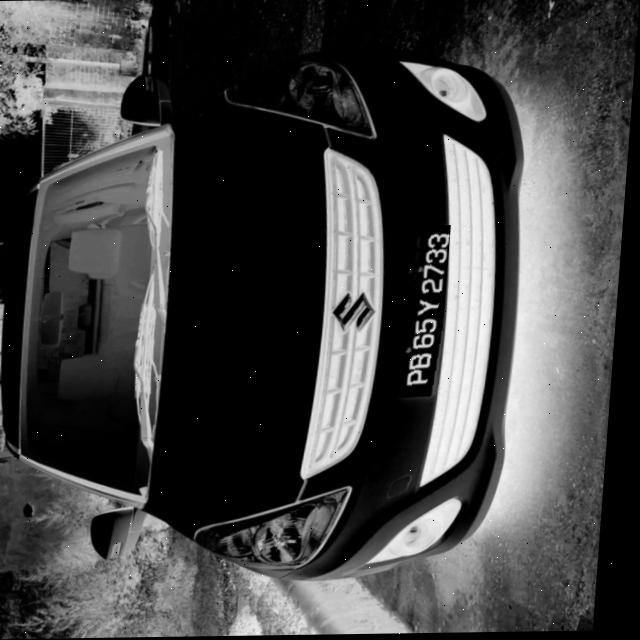Non_registered: (397, 226, 455, 396)
